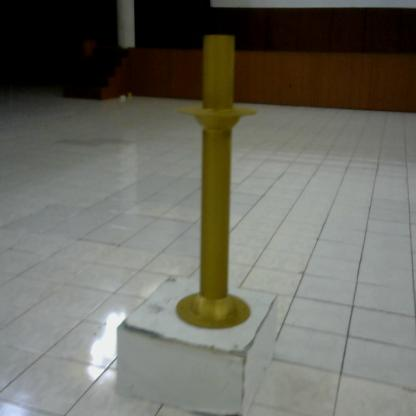pole: (175, 22, 259, 337)
